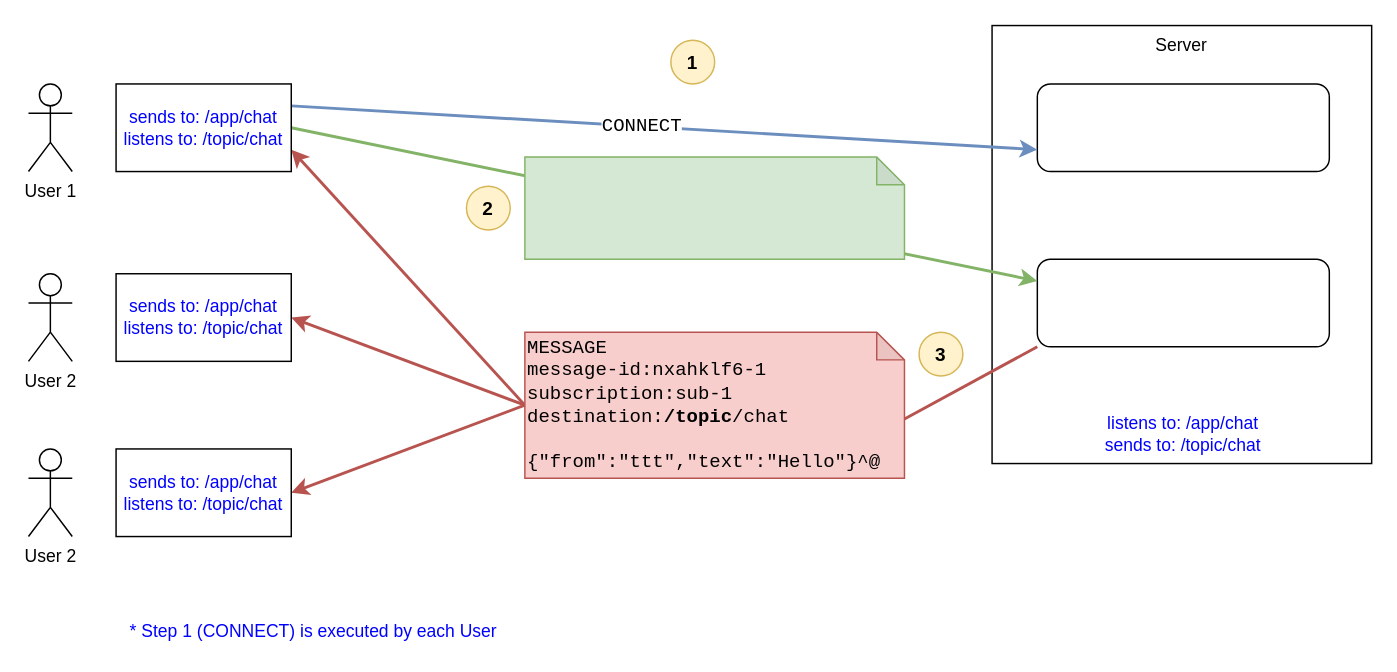
This 1397x672 diagram has some shape labels left out. The shapes that lost their labels are listed below. From the top down, each one's centre as x and y in pixels, then its label:
point (1182, 127): @Configuration Endpoint http://localhost:8080/chat
point (713, 207): SEND destination: /app /chat {"from":"ttt","text":"Hello"}^@
point (1182, 302): @Controller @MessageMapping("/chat")
